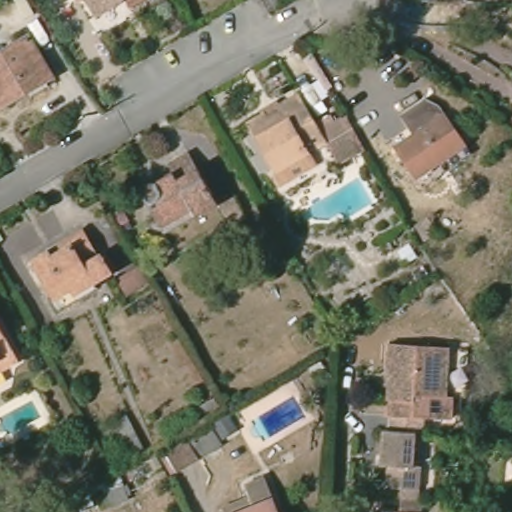pool: (298, 179, 378, 224), (252, 401, 305, 439), (1, 400, 44, 436)
